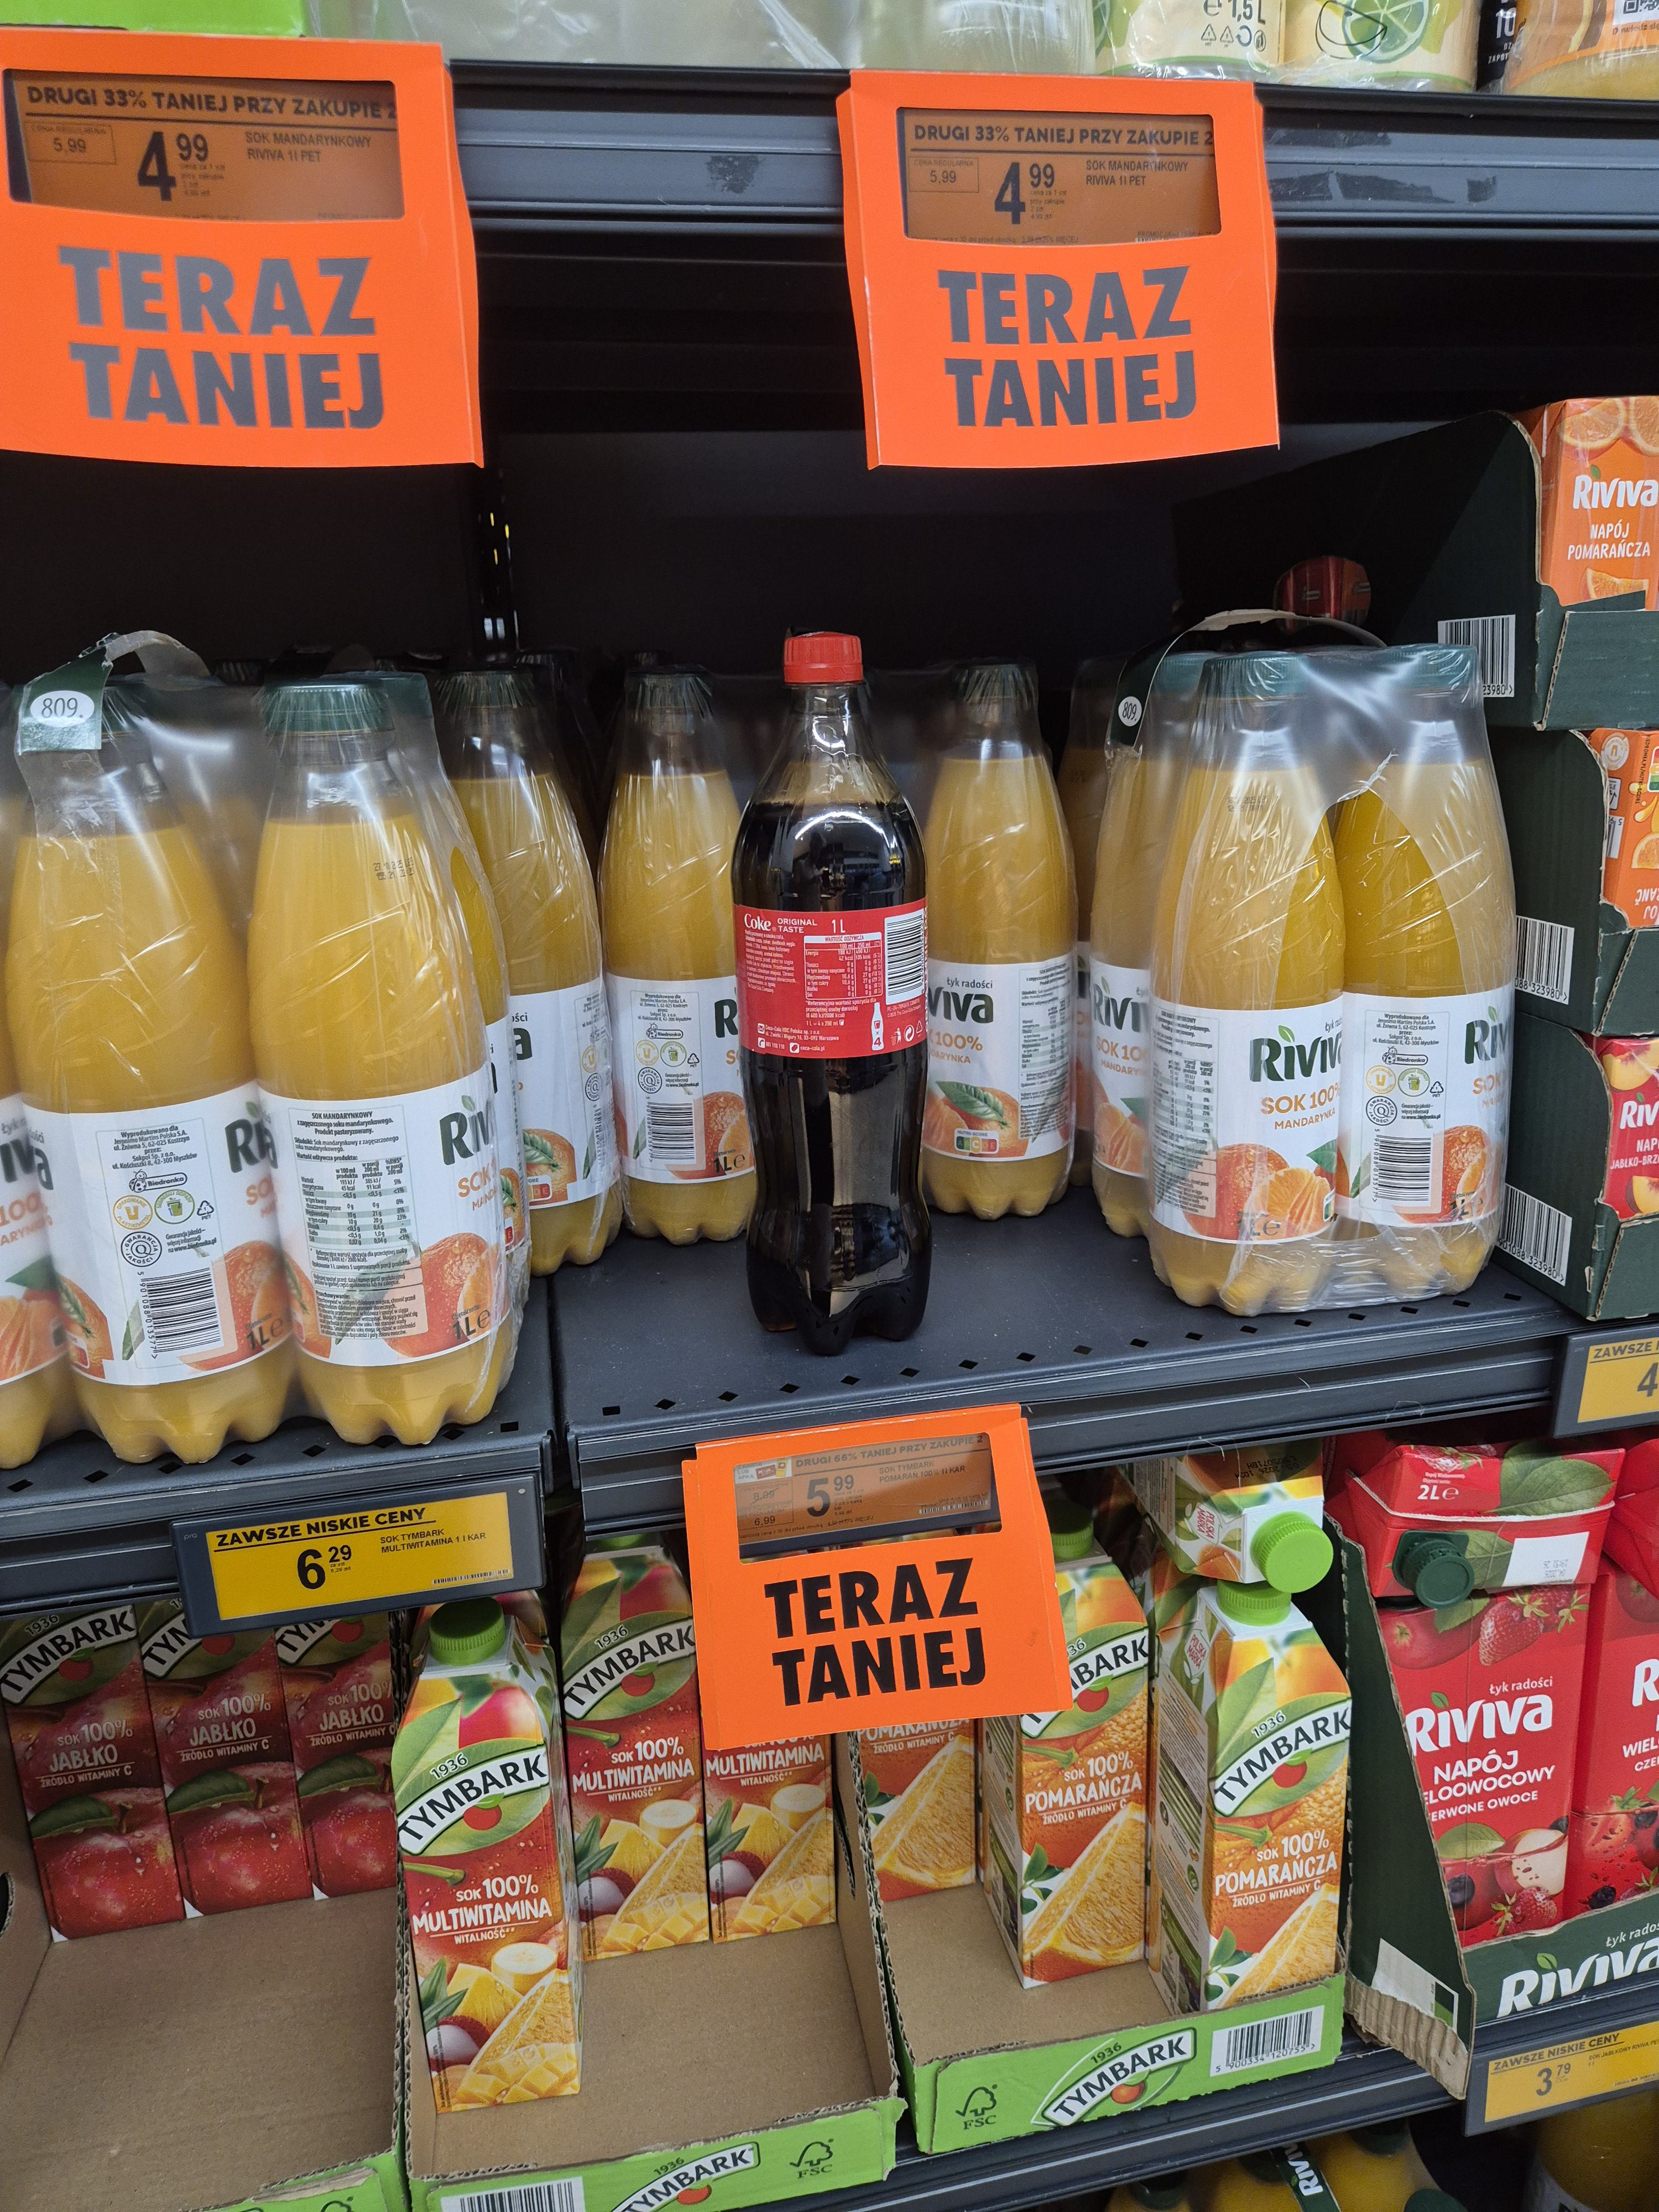Coca Cola: (708, 629, 971, 1352)
